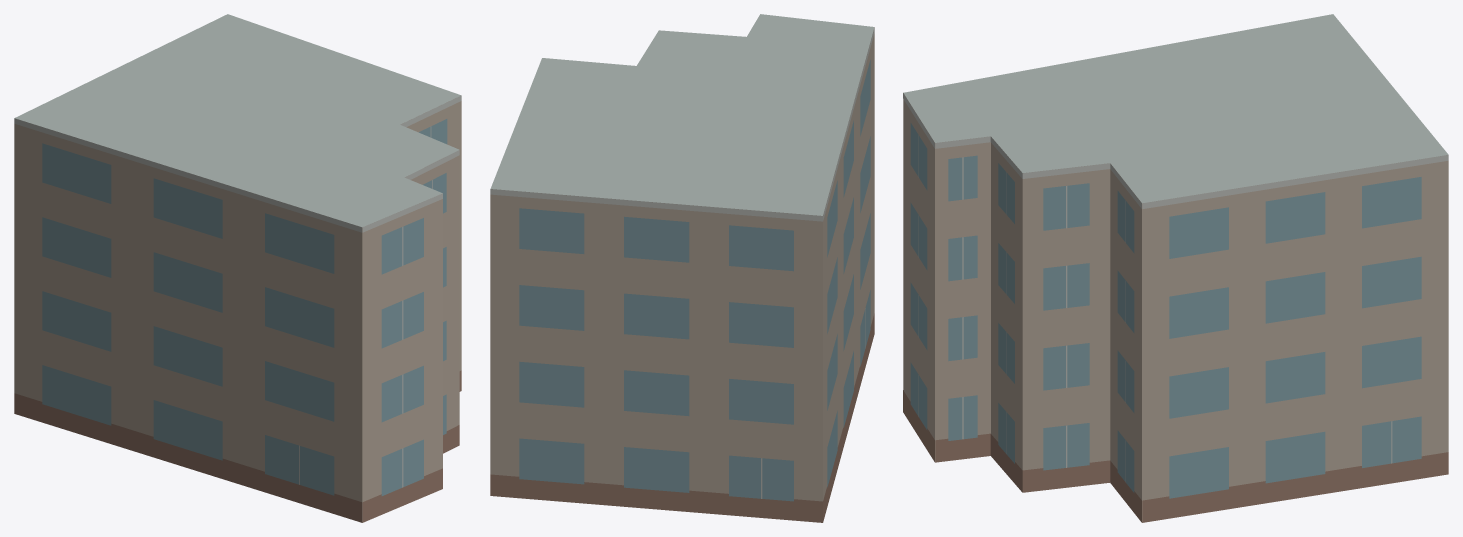
File: survey-upis-32838216.glb
3 renders of one model, left to right at view 1: azimuth 30°, elevation 25°; view 2: azimuth 150°, elevation 25°; view 3: azimuth 270°, elevation 25°, orthographic. The views are drawn at different scales.
Visible parts, largest first — view 1: survey-upis-32838216.tmp; view 2: survey-upis-32838216.tmp; view 3: survey-upis-32838216.tmp.
Part boxes in pixels (<box>): survey-upis-32838216.tmp: <box>14,14,461,522</box>; survey-upis-32838216.tmp: <box>490,14,874,522</box>; survey-upis-32838216.tmp: <box>903,14,1448,522</box>.
Bounding box in the file's own units: 16.78 × 13.2 × 20.43.
